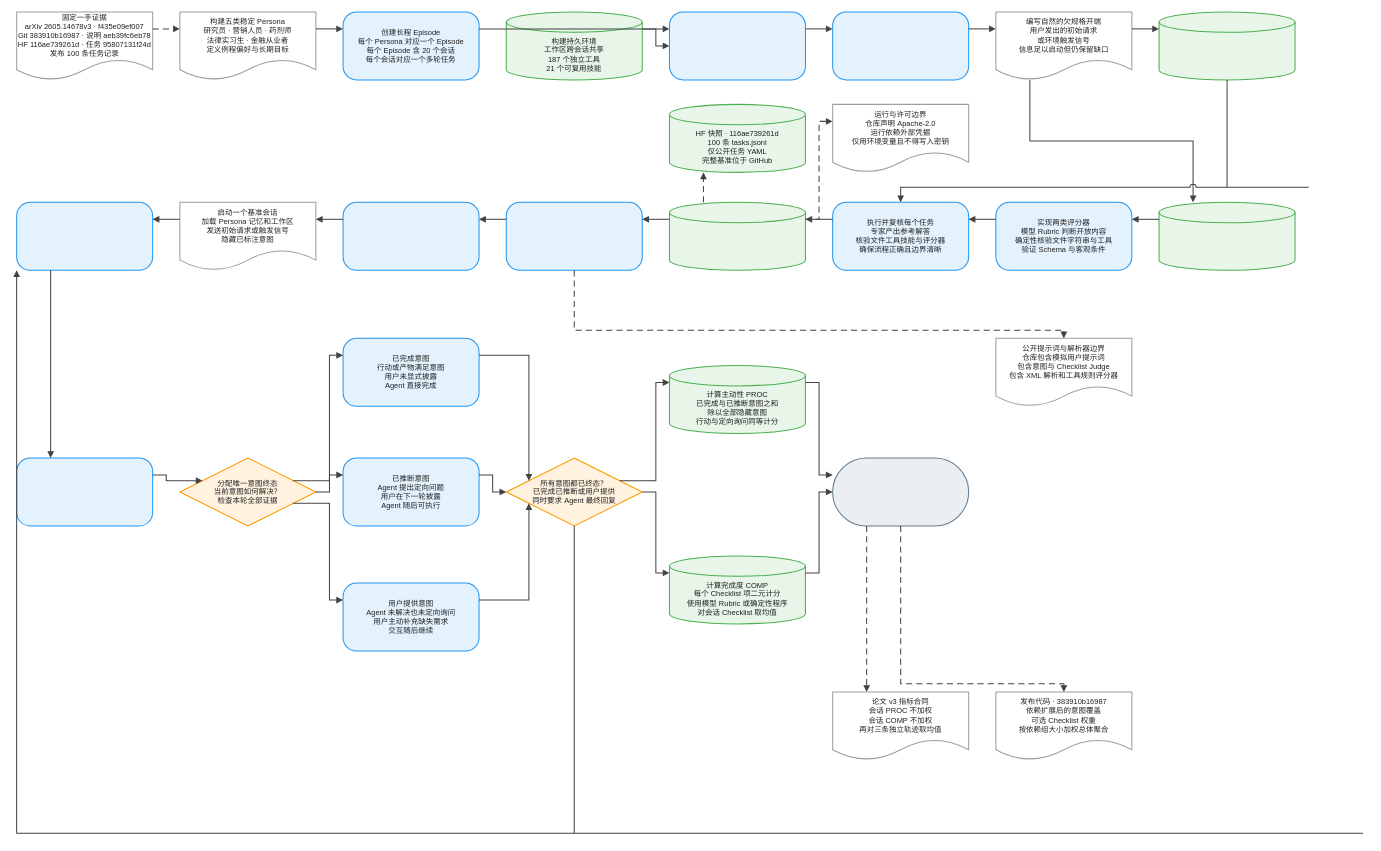
Some shapes in this 1381 by 851 pixel diagram are drawn without their labels. The box of each missing label's shape, as (x1, y1, x2, y2) in pixels:
定义可核验 Checklist 510 个 Rubric 项 · 168 个规则项 表达具体细粒度义务 保证条件必要且充分: (1158, 201, 1295, 271)
定稿 π-Bench 100 个任务 · 五类 Persona 100 个多轮会话 持久跨会话工作流: (669, 201, 806, 271)
报告两种不同能力 PROC 衡量需求发现 COMP 衡量正确产物与决策 三次运行取均值并报告偏差: (832, 457, 969, 526)
标注 524 个可恢复意图 表达潜在约束与偏好 可在会话内或跨会话持续 可从证据推断询问并执行: (1158, 11, 1295, 80)
模拟用户观察进展 检查回复与工具调用 检查工作区更新与产物 更新意图跟踪状态: (16, 457, 153, 526)
派生工作流任务 来自真实工作例程与材料 要求产生具体交付物 人工复核真实性与可行性: (669, 11, 806, 80)
被测 Agent 响应 推理澄清并调用工具 创建或修改产物 更新持久工作区: (16, 201, 153, 271)
设计跨会话依赖 每个 Episode 含六个强依赖组 每组由两至三个任务构成 另含五个大体独立任务: (832, 11, 969, 80)
运行三条独立轨迹 每个任务重复三次 保留会话历史与产物 报告均值与标准差: (342, 201, 479, 271)
配置评测参与者 统一 Nanobot 派生脚手架 GPT-5.4 模拟用户和 Rubric Judge 温度为零 · 默认解码 · 开启思考: (505, 201, 642, 271)
